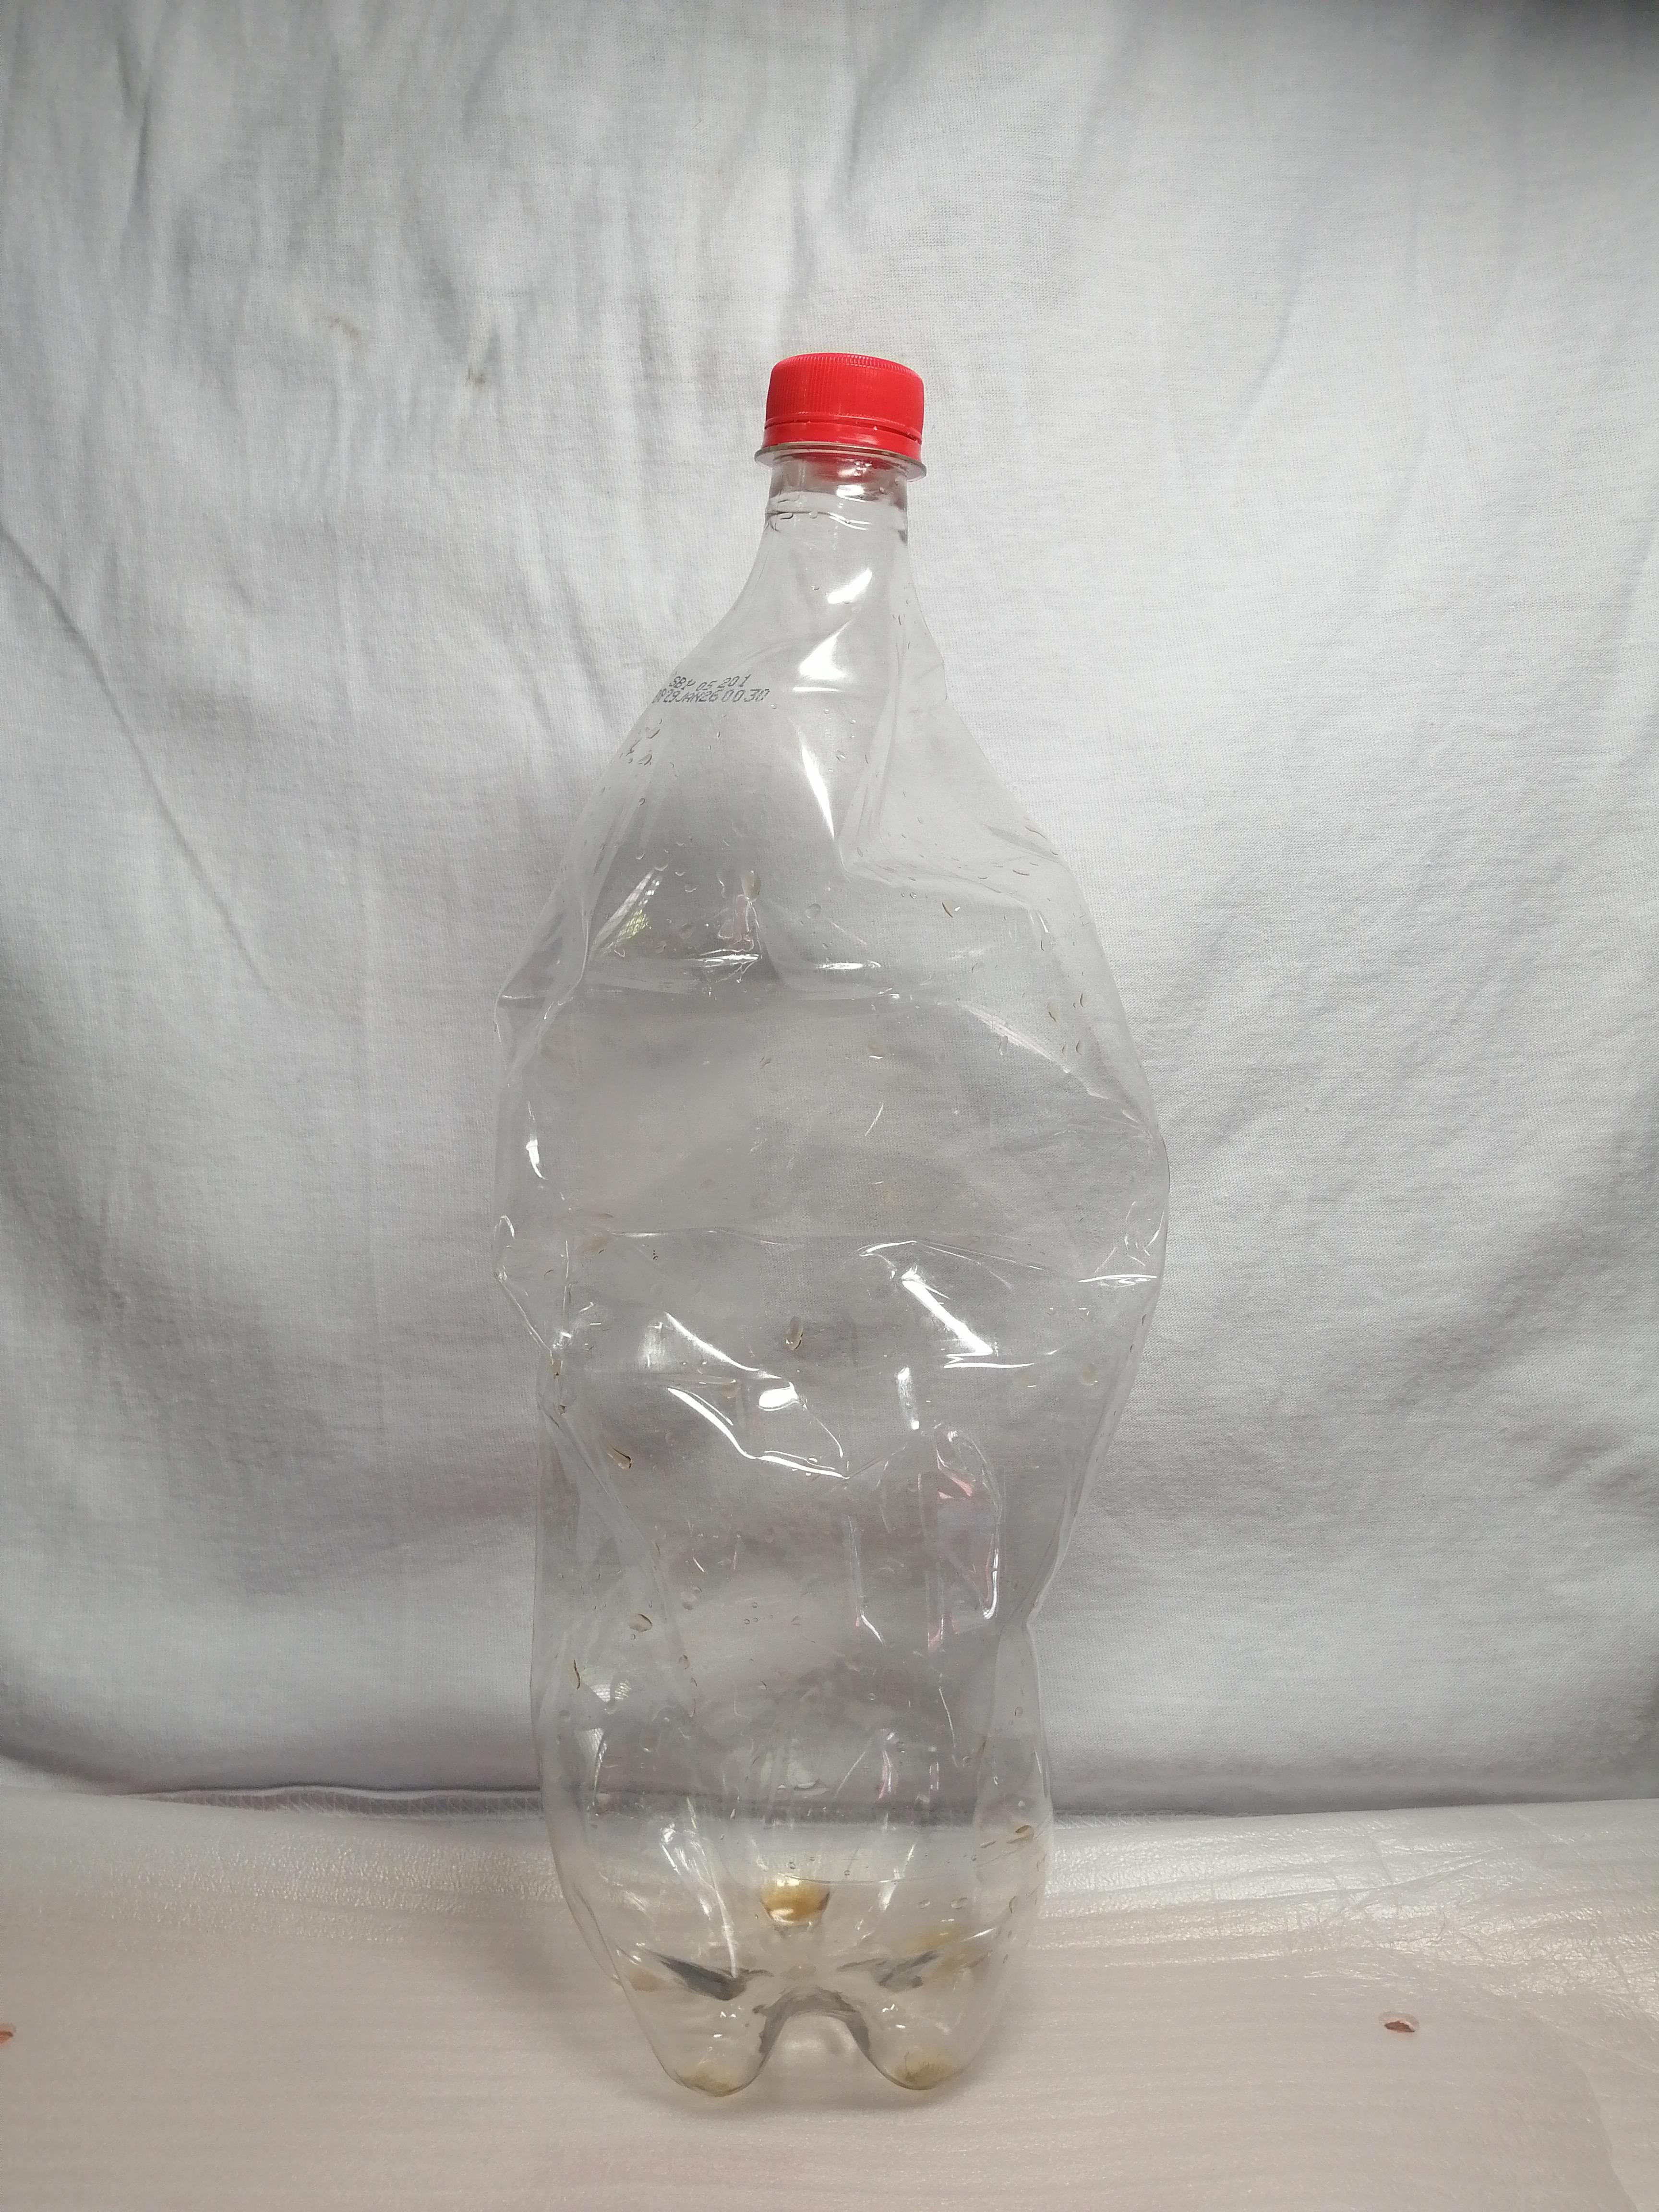plastic-bottle: (470, 283, 1205, 2165)
